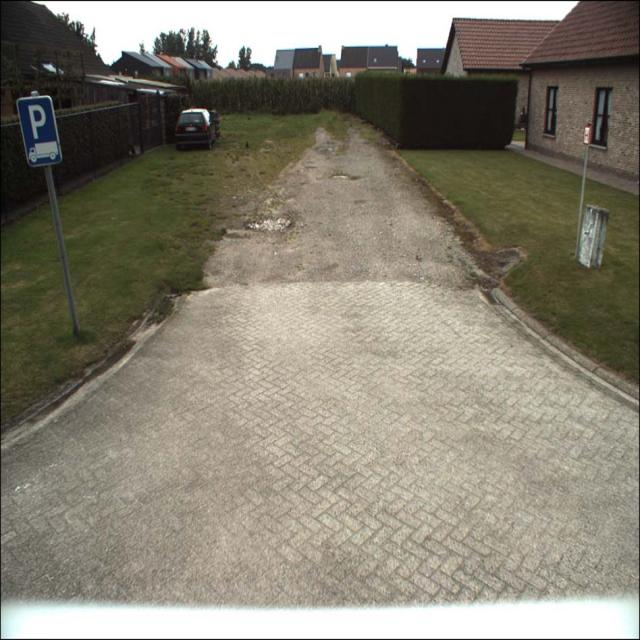park: (17, 94, 61, 166)
